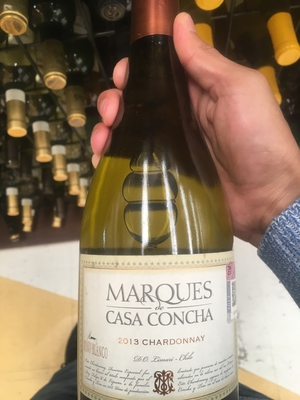marques de casa concha chardonnay: (79, 8, 242, 400)
